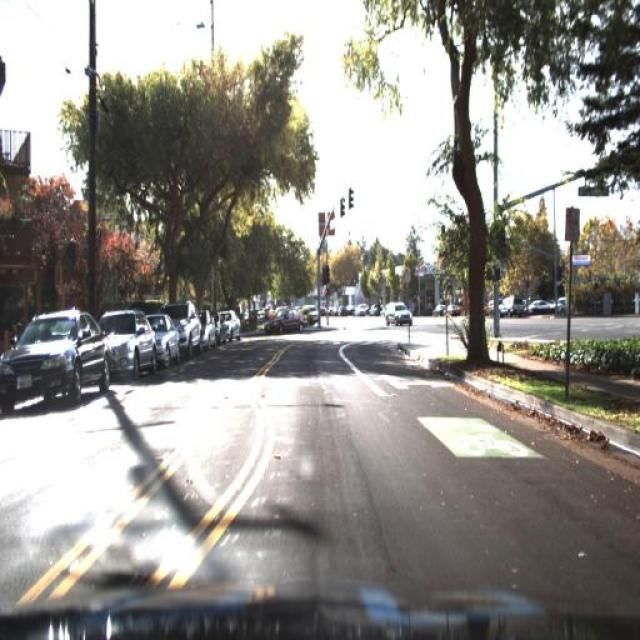car: (0, 301, 115, 423), (109, 306, 158, 384), (258, 302, 312, 341), (152, 308, 182, 368), (178, 303, 204, 359), (381, 298, 419, 330), (202, 305, 218, 356), (298, 298, 323, 328), (552, 295, 579, 320), (524, 297, 552, 318), (482, 295, 498, 320)
